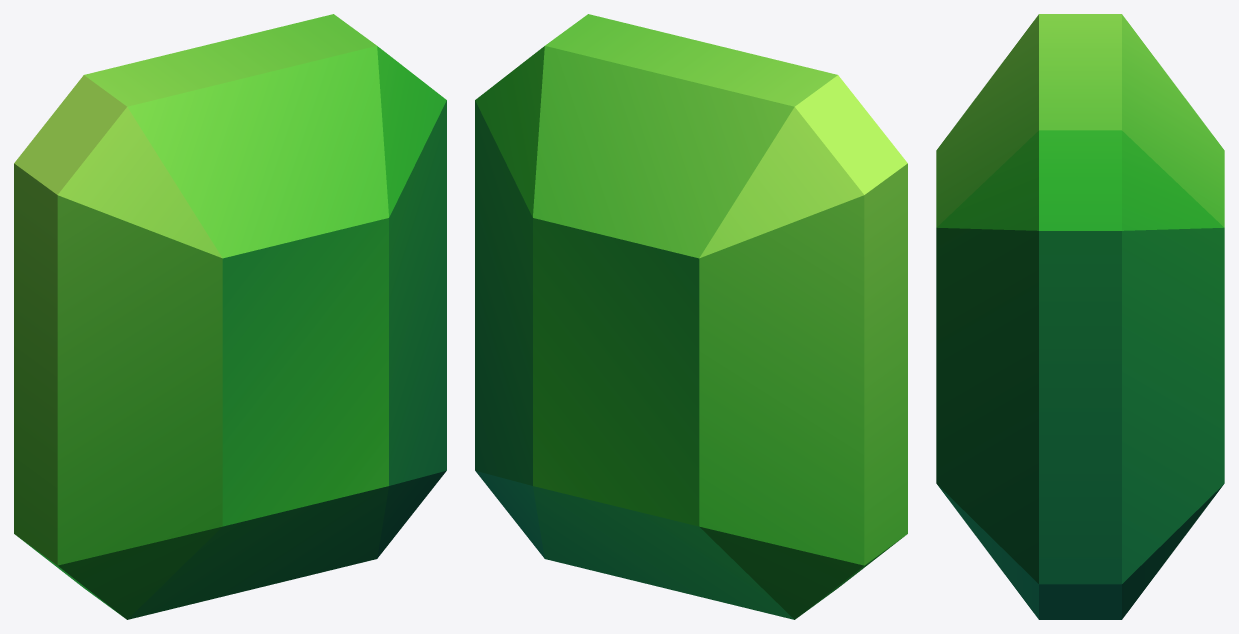
The model's file is gem-emerald.glb.
3 renders of one model, left to right at view 1: azimuth 30°, elevation 25°; view 2: azimuth 150°, elevation 25°; view 3: azimuth 270°, elevation 25°, orthographic. The views are drawn at different scales.
Visible parts, largest first — view 1: Emerald_01; view 2: Emerald_01; view 3: Emerald_01.
Boxes of the visible parts, box(x1,y1,x2,y2) form: Emerald_01: box(14, 14, 446, 619); Emerald_01: box(475, 14, 907, 619); Emerald_01: box(936, 14, 1224, 619).
Size of the model in its own units: 0.2019 by 0.2543 by 0.1356.
Materials: 1 (1 with a texture image).
